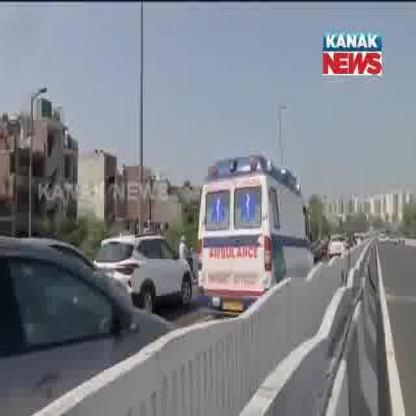priority: (193, 147, 317, 321)
